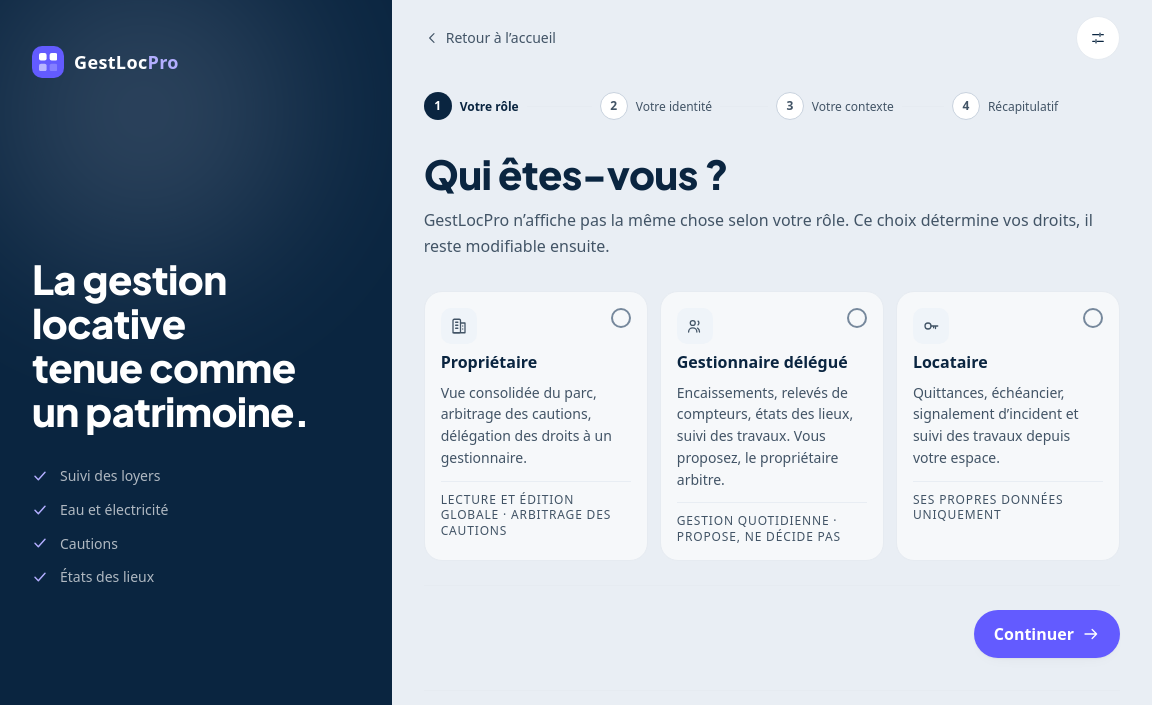
le refus de la première étape › laisse passer dès qu’un rôle est choisi
Click the radio button labelled "Propriétaire" at (536, 426), box [424,291,648,561]
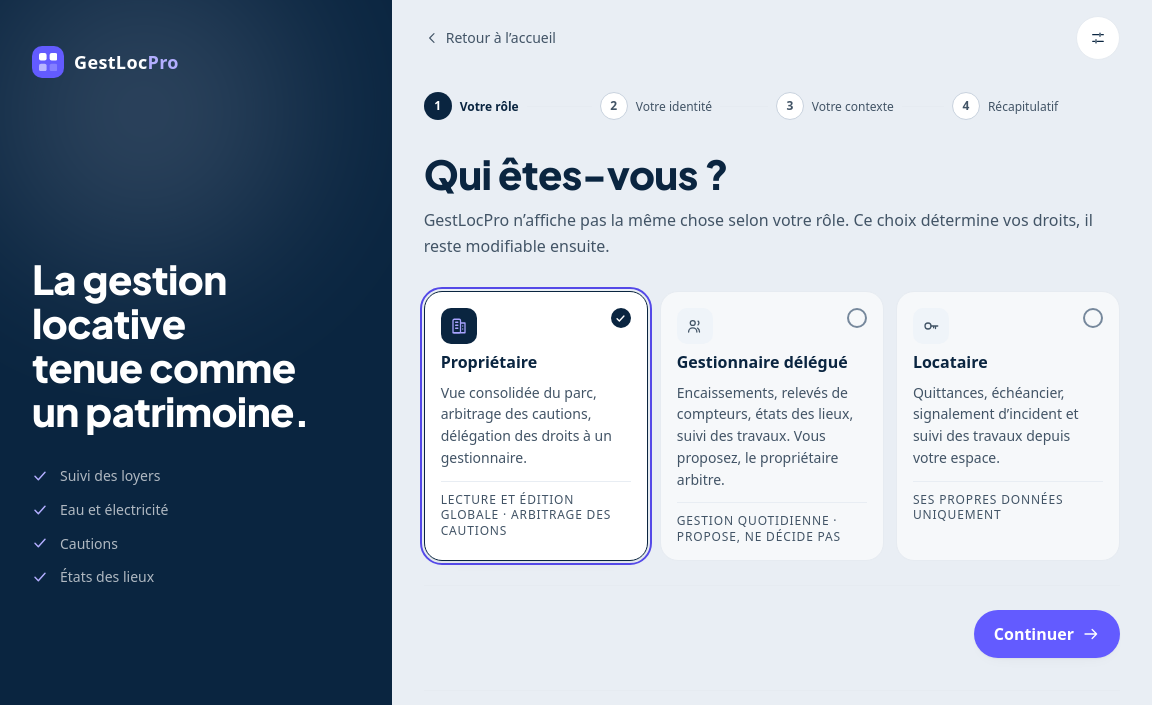
Click the button "Continuer" at (1047, 634), box [974,610,1120,658]
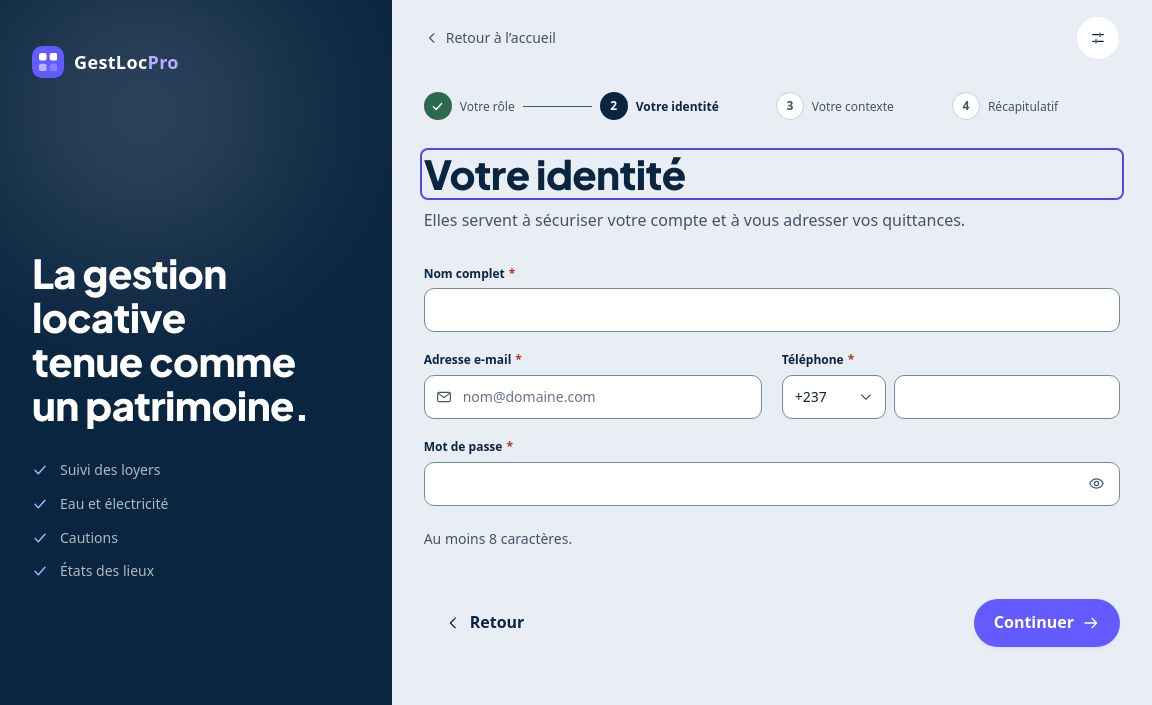
Expected: the heading "Votre identité" is shown, [424,148,686,199]
